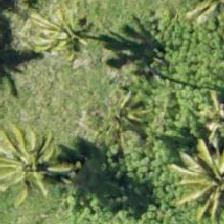coconut_tree: (79, 71, 169, 161), (0, 110, 75, 200), (24, 0, 114, 69)
